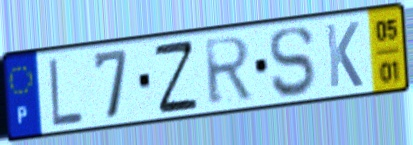7: (92, 48, 133, 122)
K: (323, 19, 365, 91)
L: (46, 55, 86, 128)
R: (201, 34, 255, 108)
S: (267, 23, 317, 101)
Z: (151, 37, 201, 117)
